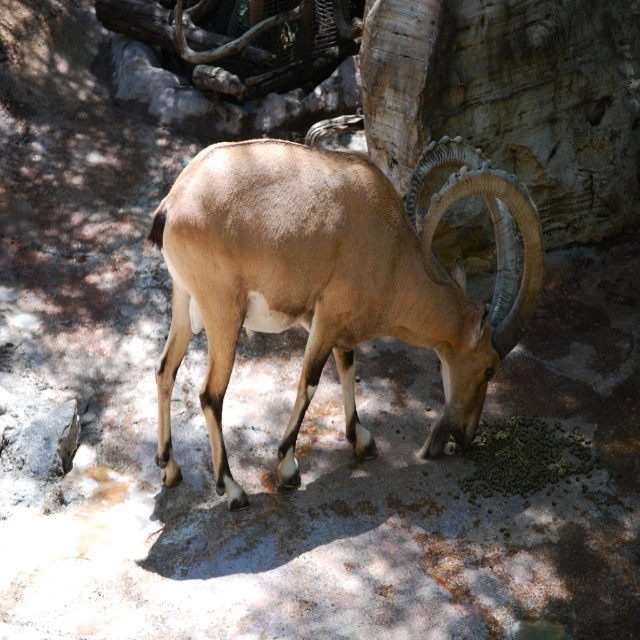Goat: (139, 135, 545, 511)
